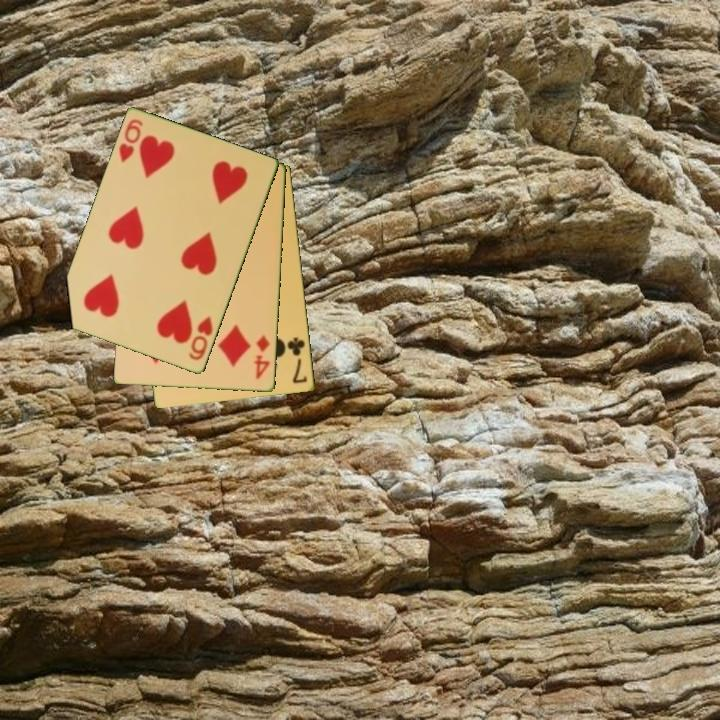4d: (251, 332, 273, 382)
6h: (115, 116, 146, 166), (186, 313, 216, 364)
7c: (284, 334, 310, 386)
